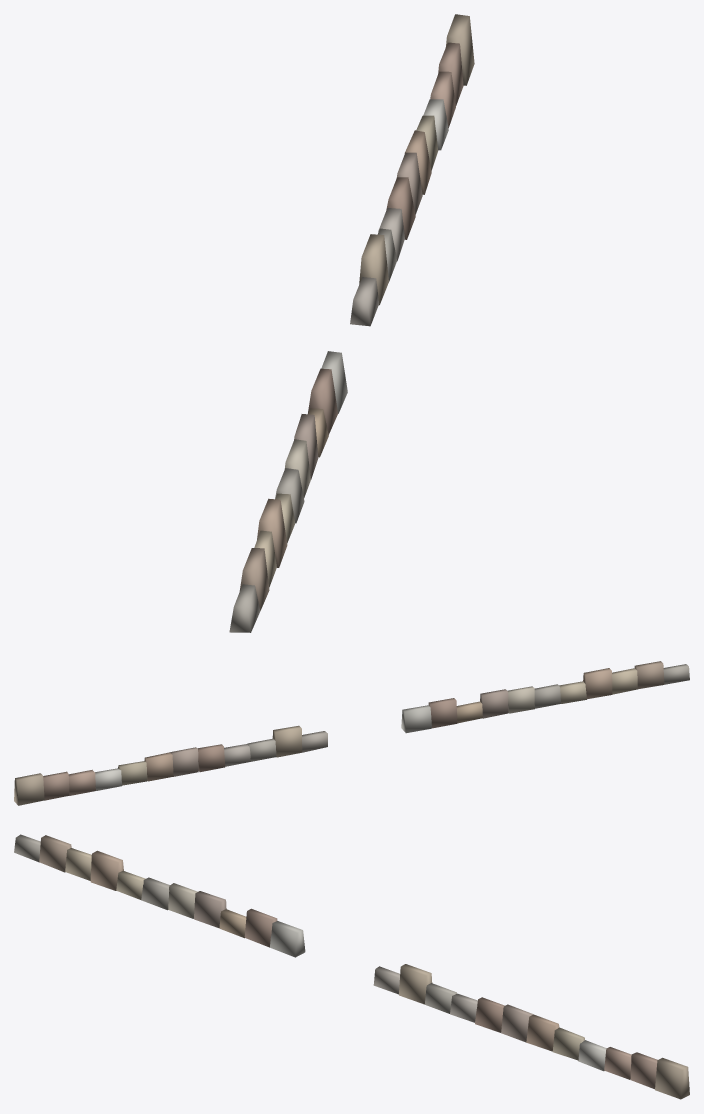
Rendered from farm_-5_3_far.glb.
The picture shows the model from 3 angles, top to bottom: view 1: azimuth 30°, elevation 25°; view 2: azimuth 150°, elevation 25°; view 3: azimuth 270°, elevation 25°; orthographic projection. The views are drawn at different scales.
Parts seen in each view (by area): view 1: geometry_0; view 2: geometry_0; view 3: geometry_0.
Boxes of the visible parts, x1,y1,x2,y2 form: geometry_0: [229, 14, 474, 632]; geometry_0: [14, 661, 689, 805]; geometry_0: [14, 834, 689, 1099].
Size of the model in its own units: 26.23 by 2.33 by 32.31.
